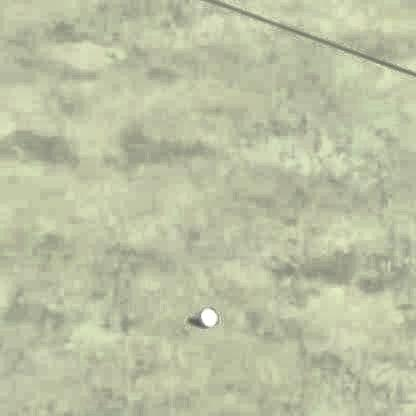golfball: (196, 305, 218, 324)
